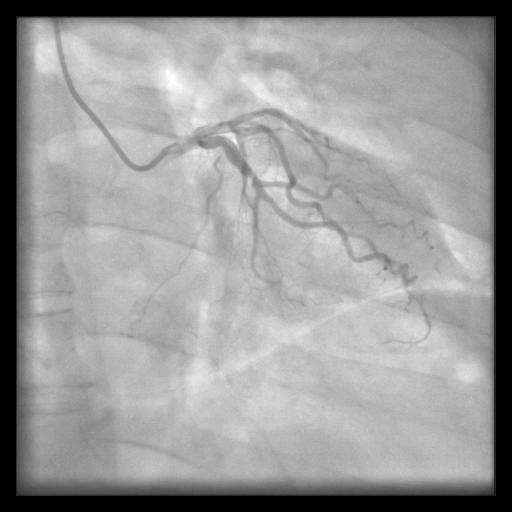Stenosis: (249, 166, 255, 184)
